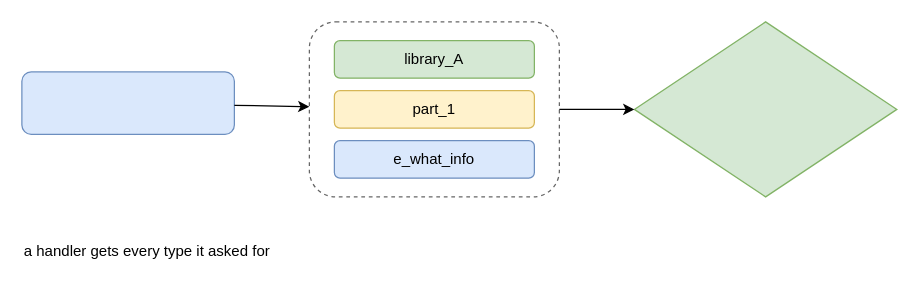
Some shapes in this 919 by 294 pixel diagram are drawn without their labels. Here are the shapes that lost their labels. From the top down, the box of each, then its label:
(21, 71, 234, 134): function_lib_A_part_1()
(633, 21, 897, 197): handler (library_A, part_1, e_what_info) matches
